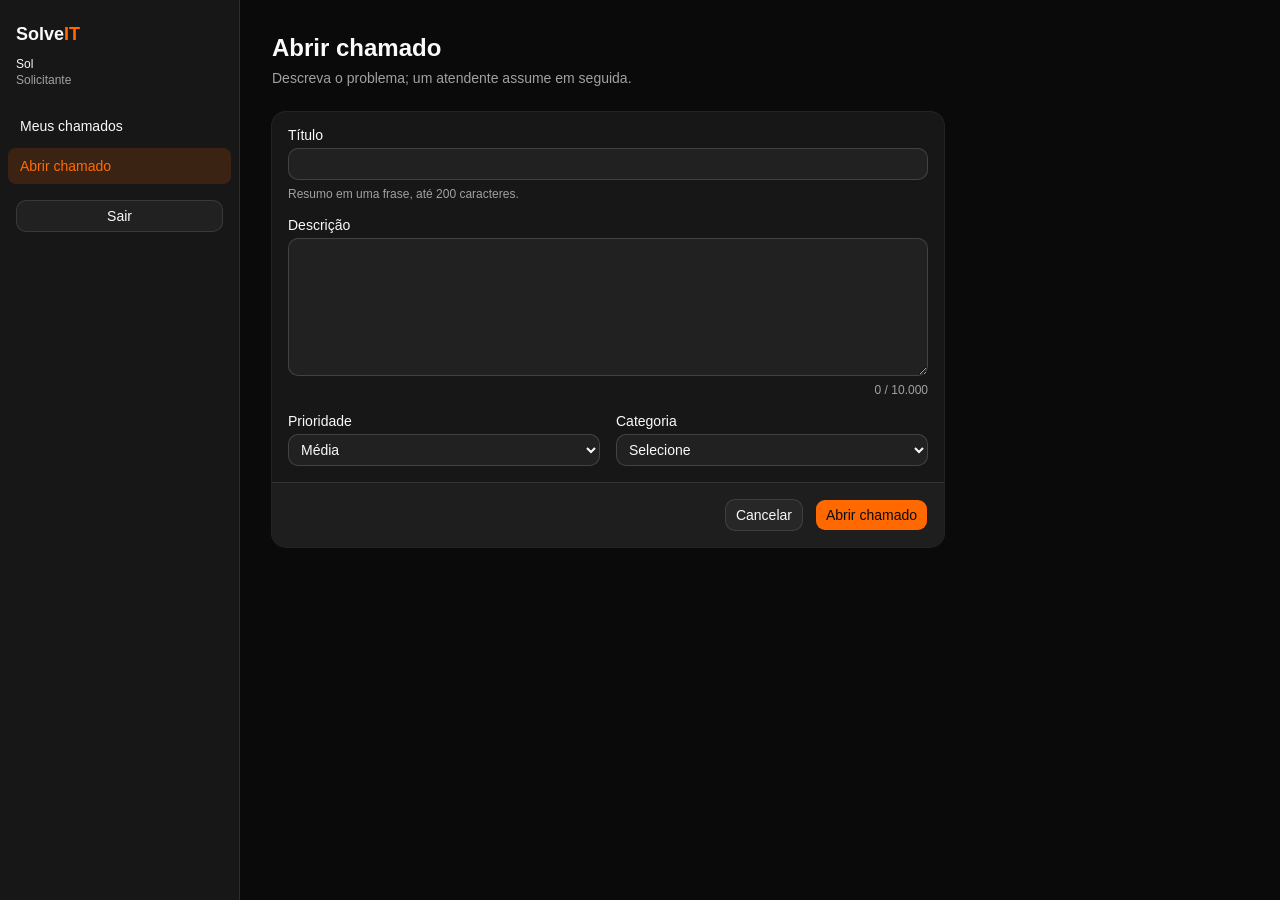
Scenario: abertura de chamado › envia somente os quatro campos aceitos e volta para a lista com aviso
In the field labelled "Título": (608, 164) [288, 148, 928, 180], type "  Monitor piscando  "
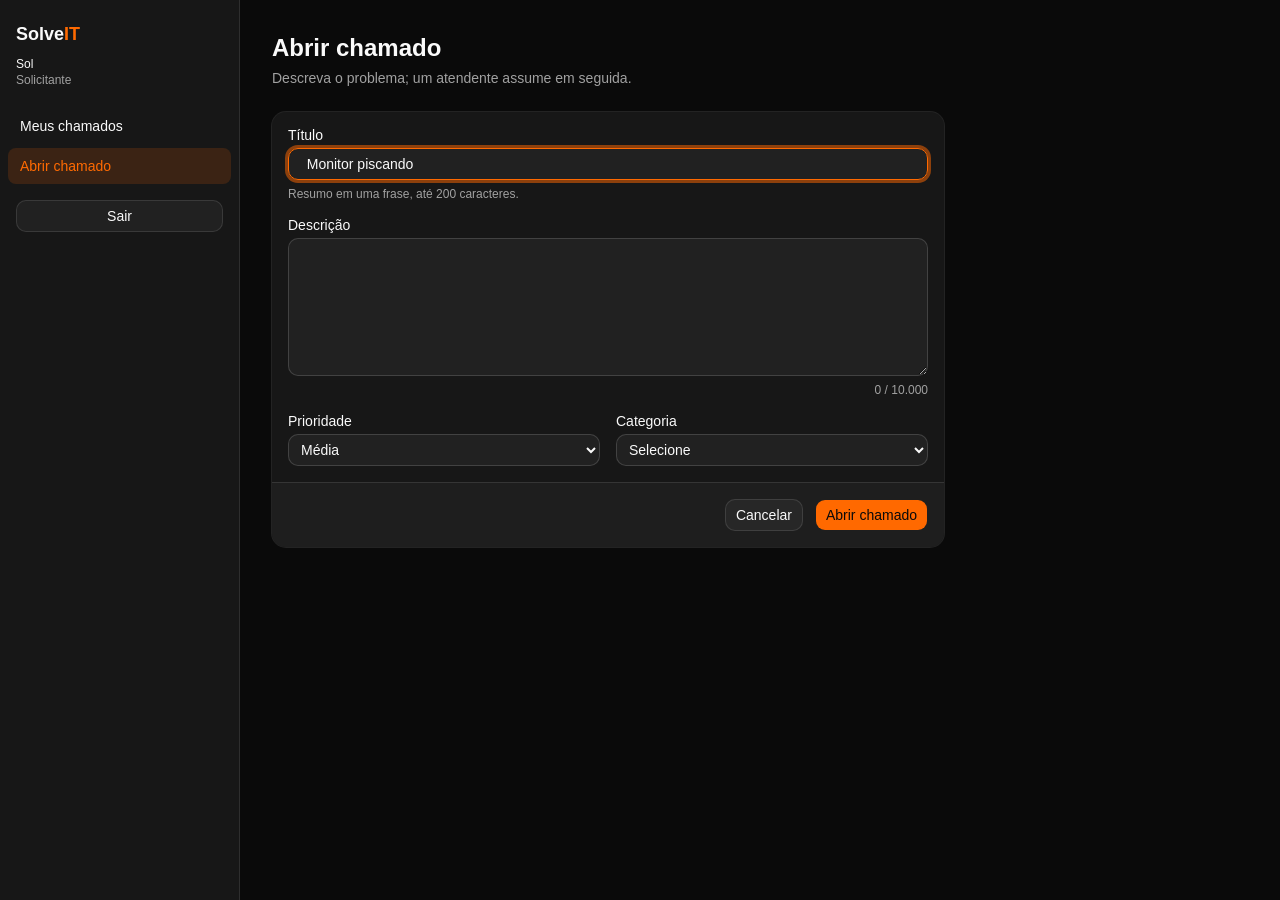
In the text box labelled "Descrição": (608, 307) [288, 238, 928, 376], type "Pisca desde ontem."
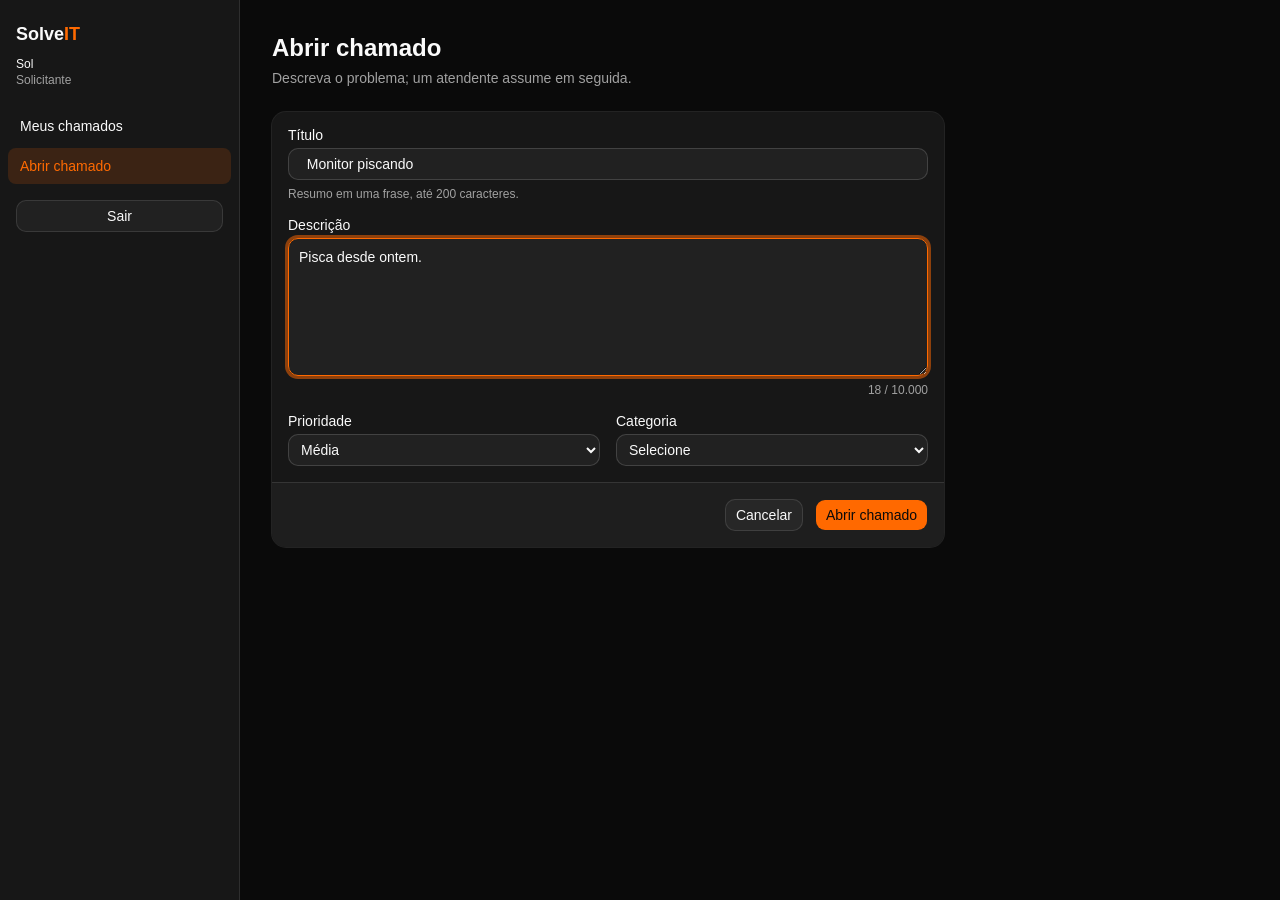
Select "Alta" in the dropdown labelled "Prioridade": (444, 450) [288, 434, 600, 466]
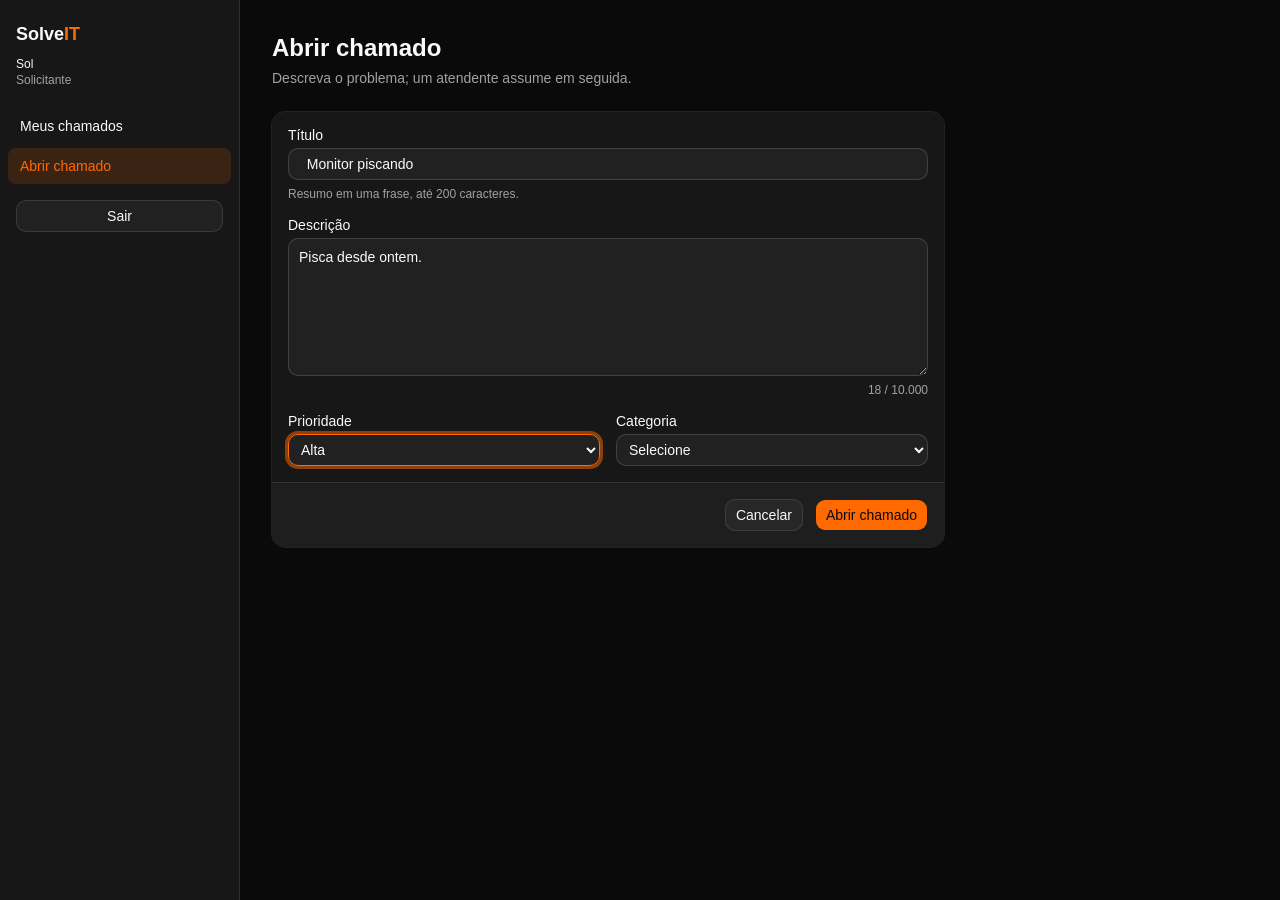
Select "Hardware" in the dropdown labelled "Categoria": (772, 450) [616, 434, 928, 466]
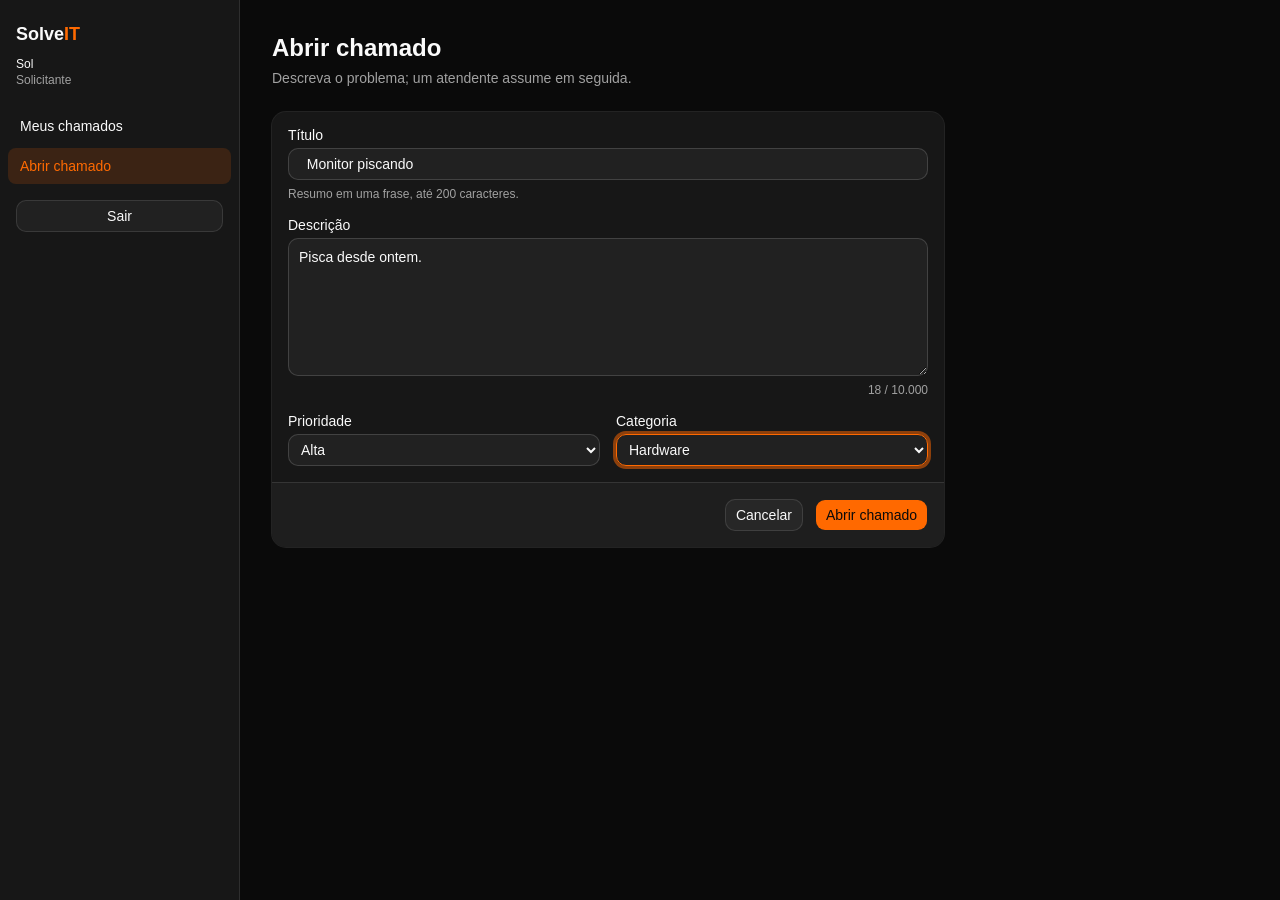
Click the button "Abrir chamado": (872, 515) [815, 499, 928, 531]
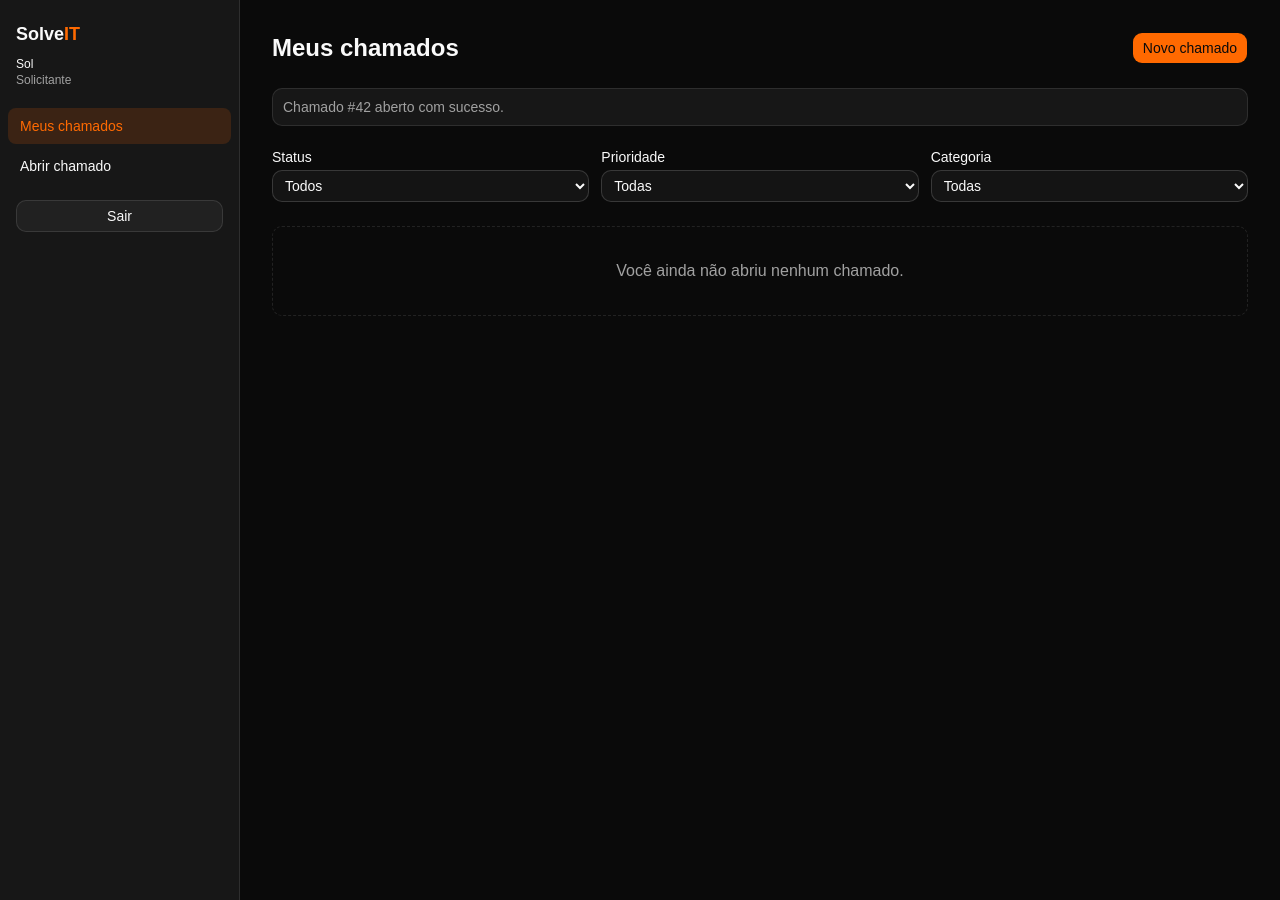
Expected: the text "Chamado #42 aberto com sucesso." is shown, [283, 99, 504, 115]
Expected: the heading "Meus chamados" is shown, [272, 32, 459, 64]
